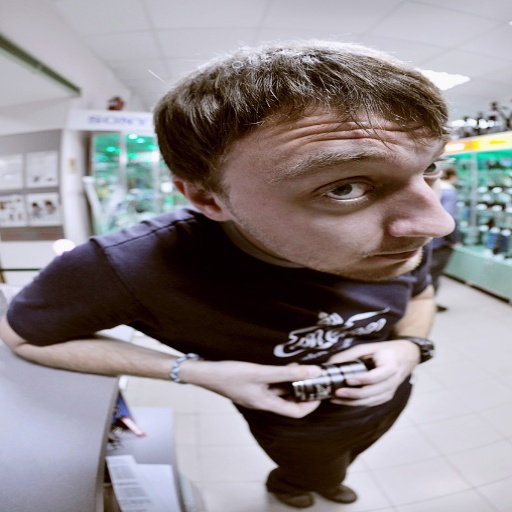hand: (325, 332, 423, 414), (201, 359, 323, 419)
